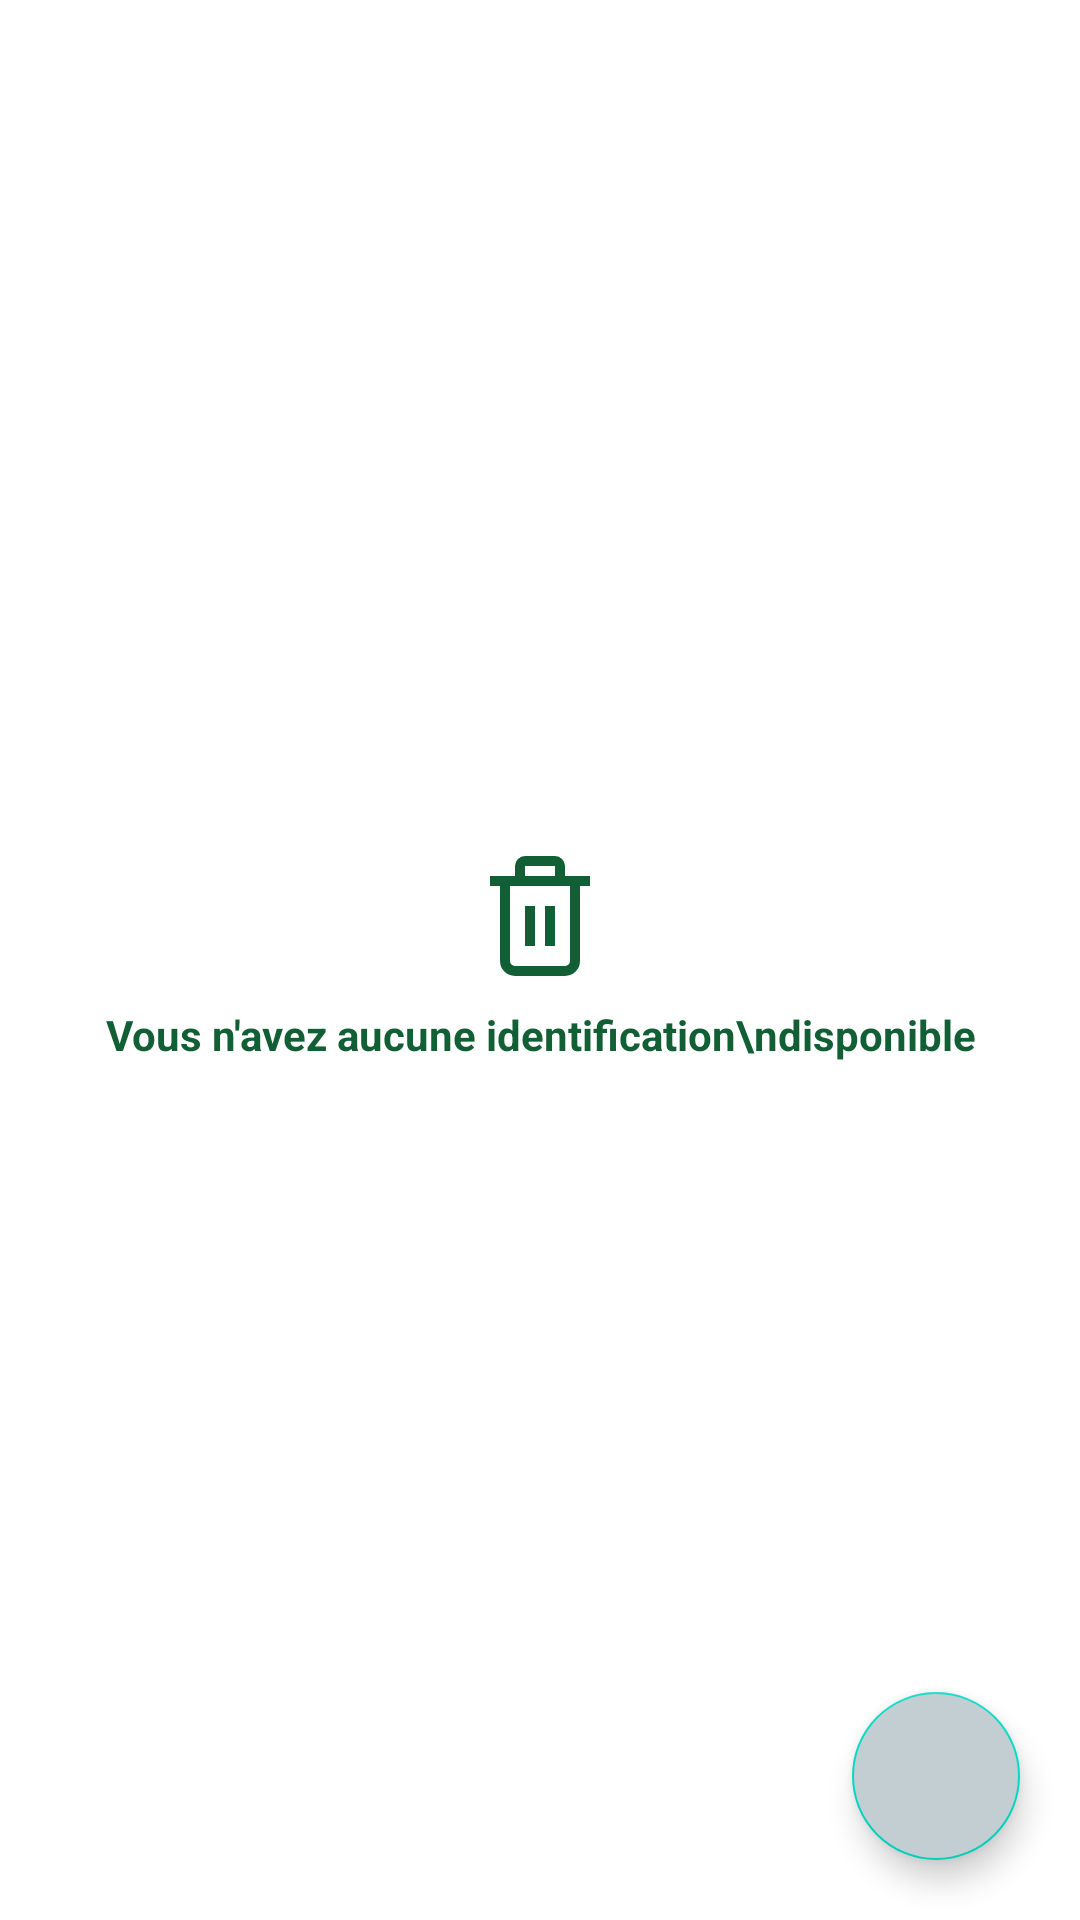

Named icons in this screenshot (1080w x 1920h) and their bounding boxes, region(x1, y1, x2, y2):
poubelle empty: region(490, 856, 590, 976)
